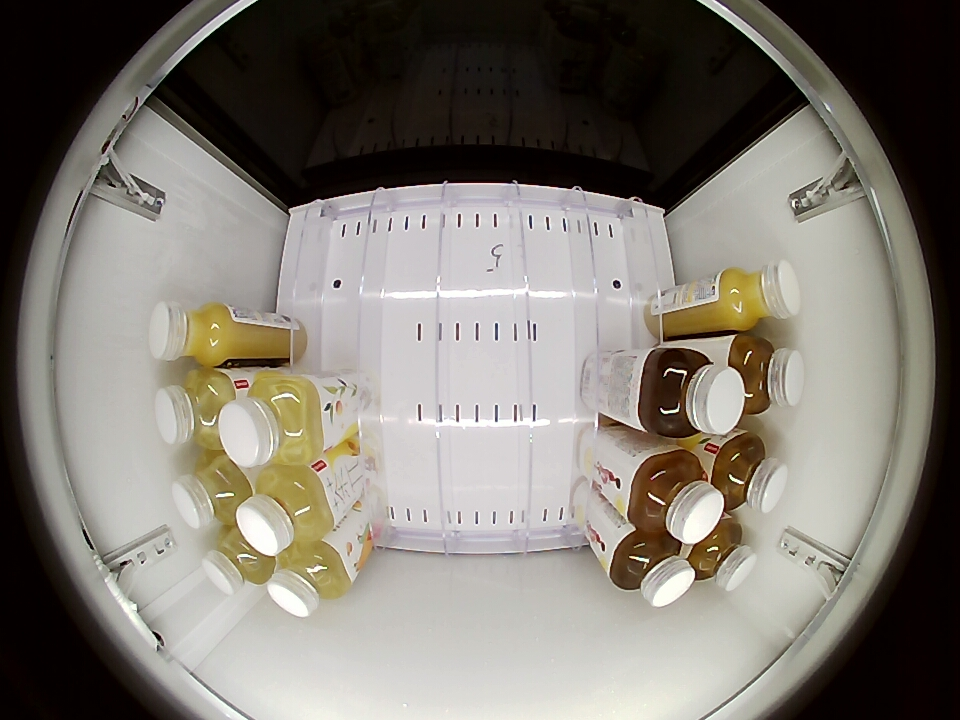chapai: (638, 346, 745, 439), (625, 448, 724, 544), (608, 529, 695, 607), (708, 433, 789, 513), (724, 335, 804, 416), (686, 518, 757, 590)
chapai2: (219, 373, 323, 469), (237, 464, 335, 556), (267, 538, 354, 617), (156, 368, 241, 448), (173, 453, 256, 528), (202, 526, 277, 595)
nfc: (714, 260, 802, 332), (148, 300, 236, 367)
